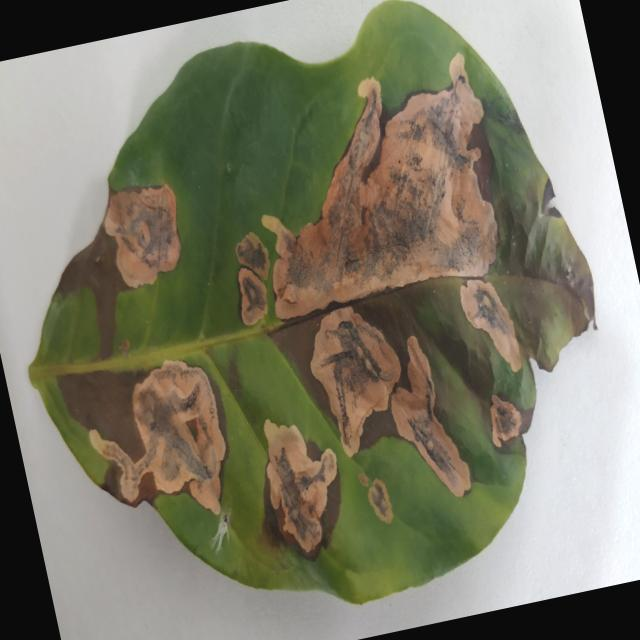KaratDaunKopi: (262, 52, 497, 319), (89, 360, 225, 514), (310, 306, 400, 456), (391, 335, 470, 496), (264, 418, 337, 553), (104, 184, 181, 287), (460, 279, 521, 371), (490, 394, 521, 446), (368, 478, 393, 523), (358, 472, 369, 487)
